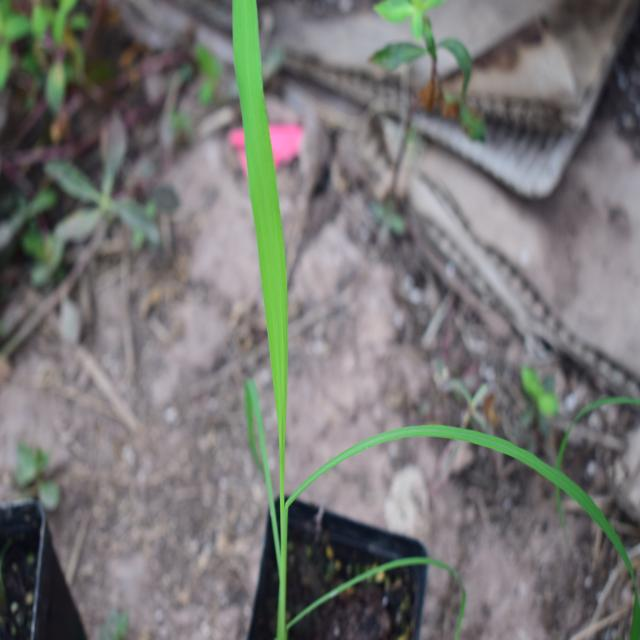barnyard_grass: (199, 0, 608, 579)
